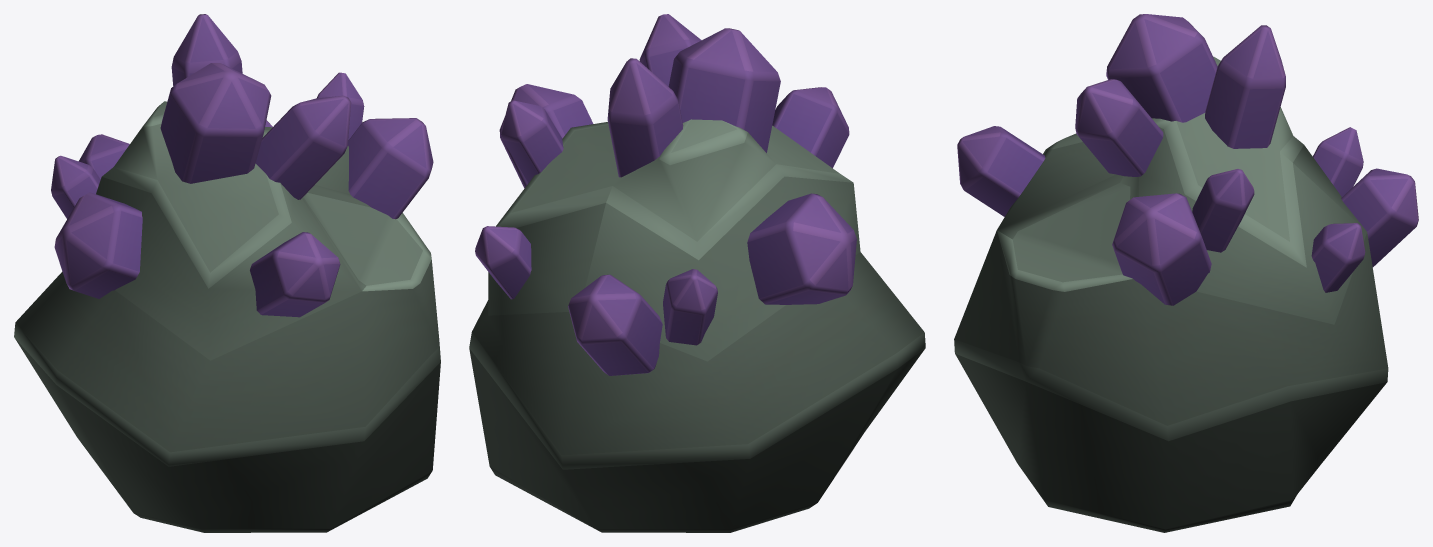
Rendered from ore_christal_amethyst_L.fbx.
3 views of the same model, side by side, from view 1: azimuth 30°, elevation 25°; view 2: azimuth 150°, elevation 25°; view 3: azimuth 270°, elevation 25° (orthographic). The views are drawn at different scales.
Parts seen in each view (by area): view 1: ore_christal_amethyst_L; view 2: ore_christal_amethyst_L; view 3: ore_christal_amethyst_L.
Part boxes in pixels (<box>): ore_christal_amethyst_L: <box>14,14,440,532</box>; ore_christal_amethyst_L: <box>469,14,925,532</box>; ore_christal_amethyst_L: <box>954,14,1418,532</box>.
Bounding box in the file's own units: 211 × 252 × 218.
Materials: 1 (1 with a texture image).
